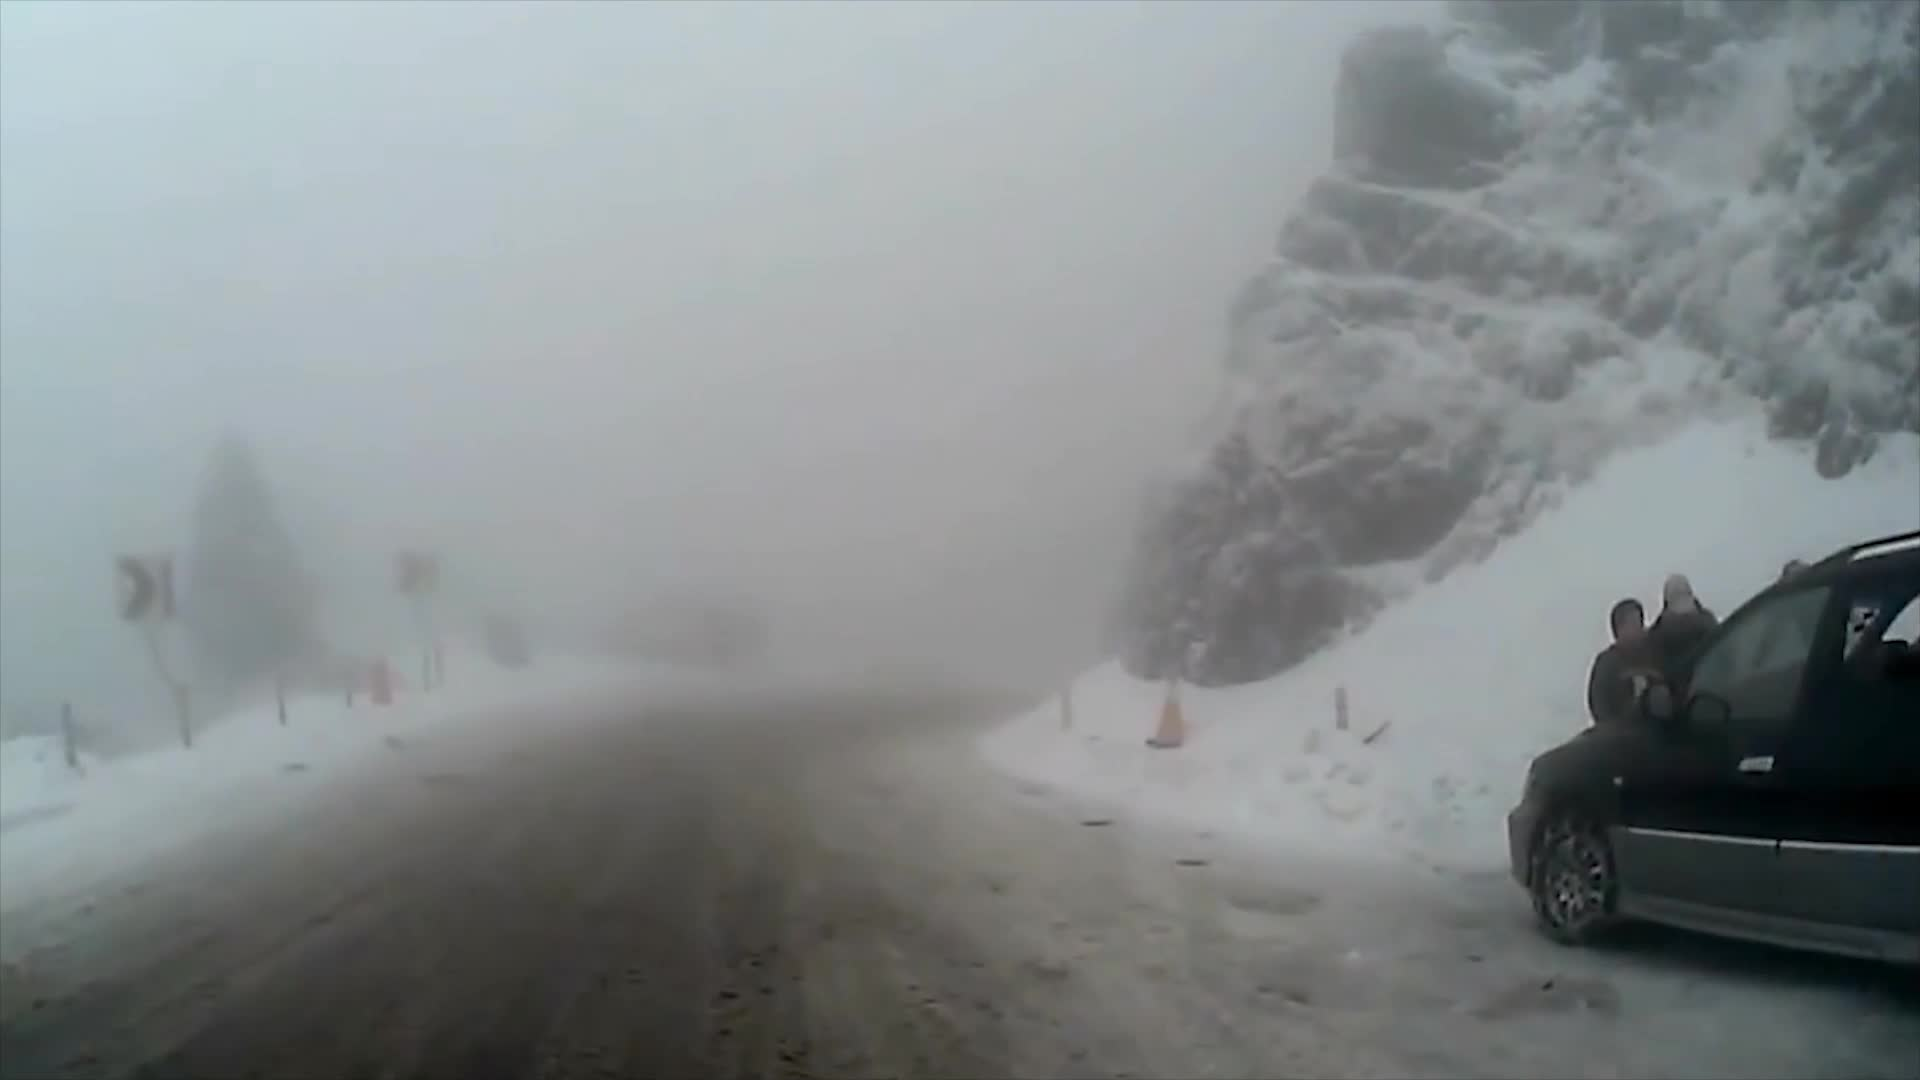pedestrian: (1584, 599, 1672, 897), (1655, 578, 1744, 854)
vehicle: (1505, 528, 1920, 987)
